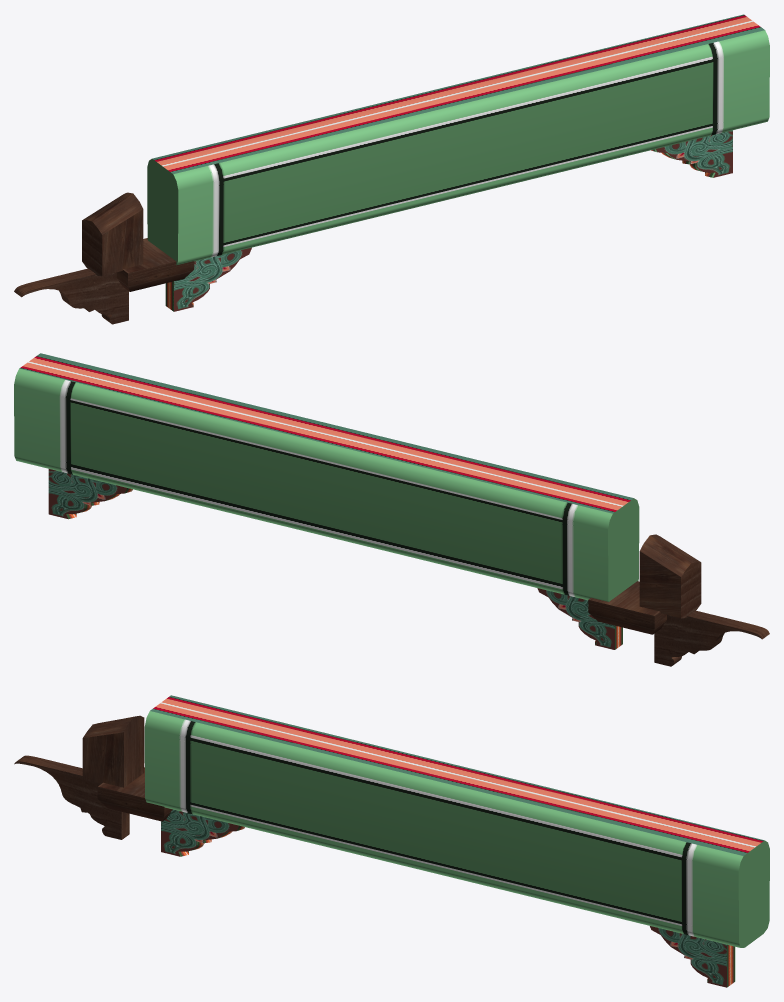
The model's file is SM_R_Beam_31.fbx.
3 renders of one model, top to bottom at view 1: azimuth 30°, elevation 25°; view 2: azimuth 150°, elevation 25°; view 3: azimuth 330°, elevation 25°, orthographic.
Parts seen in each view (by area): view 1: SM_R_Beam_31; view 2: SM_R_Beam_31; view 3: SM_R_Beam_31.
Boxes of the visible parts, <box> form: SM_R_Beam_31: <box>14,14,769,324</box>; SM_R_Beam_31: <box>14,353,769,666</box>; SM_R_Beam_31: <box>14,695,769,987</box>.
Bounding box in the file's own units: 504 × 39.44 × 94.09.
Materials: 7 (7 with a texture image).
